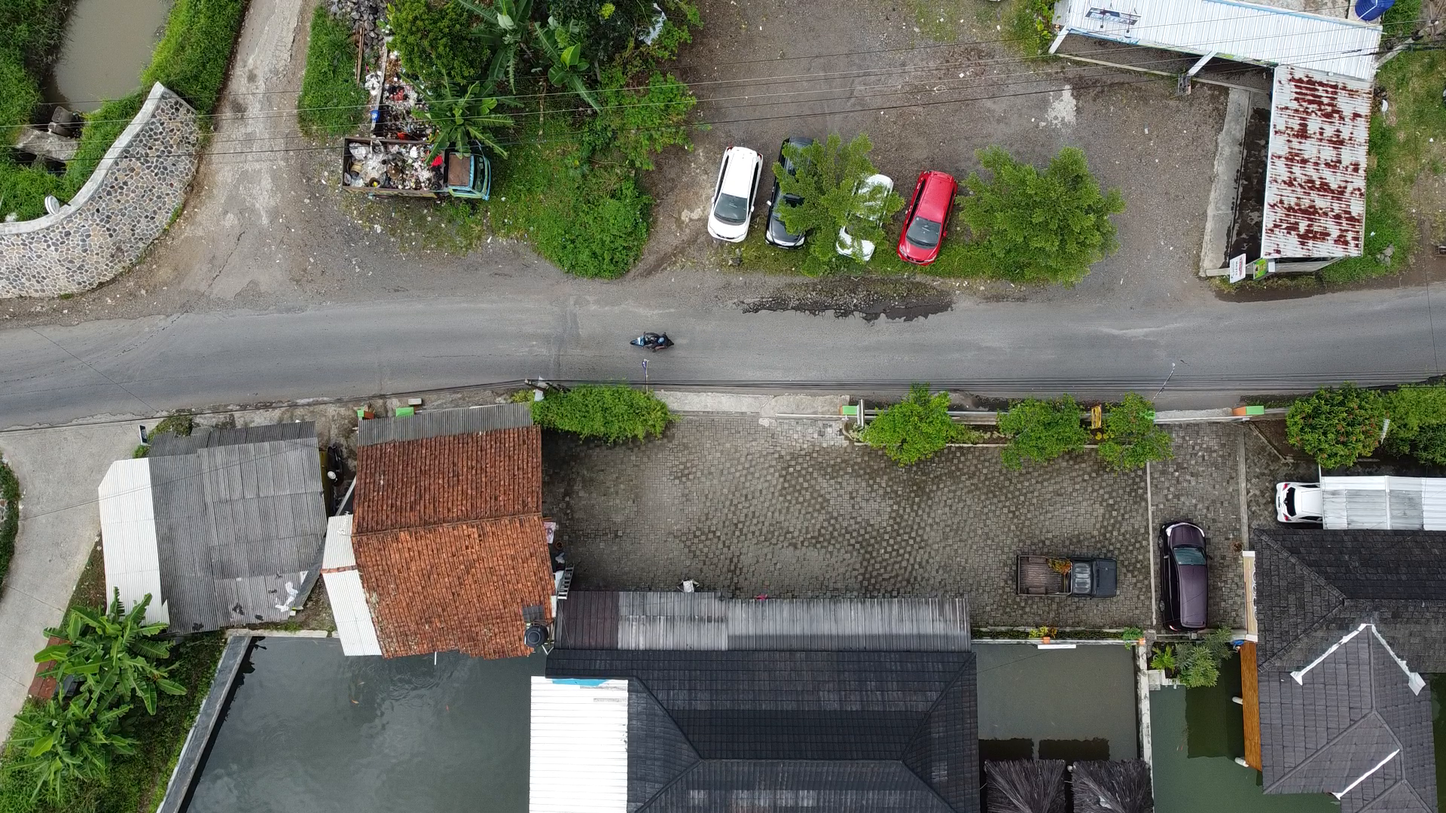mobil: (1007, 528, 1123, 608), (1153, 511, 1218, 641), (906, 152, 963, 282), (844, 154, 904, 266), (775, 132, 827, 260), (713, 132, 767, 254)
